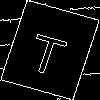T: (25, 24, 72, 78)
